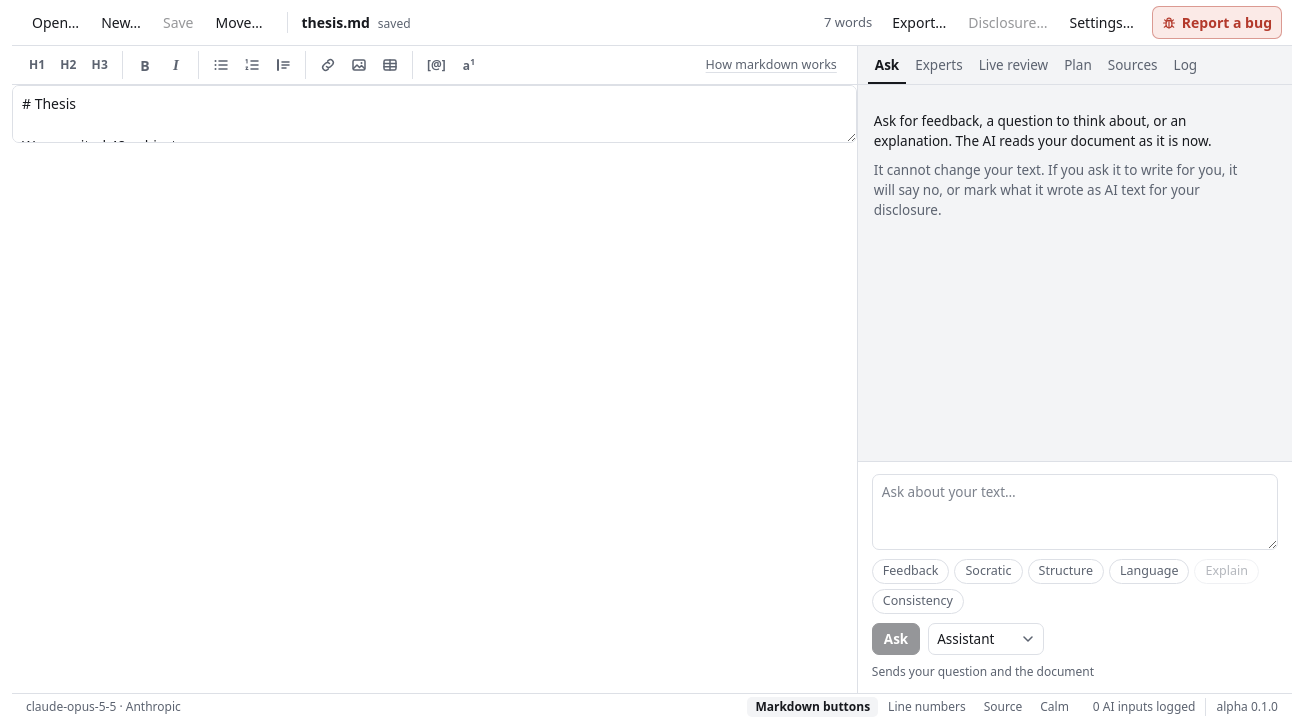
Test case: the author adds a bibliography, finds a reference and has the references checked
Expected: the text "thesis.md" is shown, [302,13,370,32]
Click the tab "Sources" at (1133, 65), box [1101,46,1165,84]
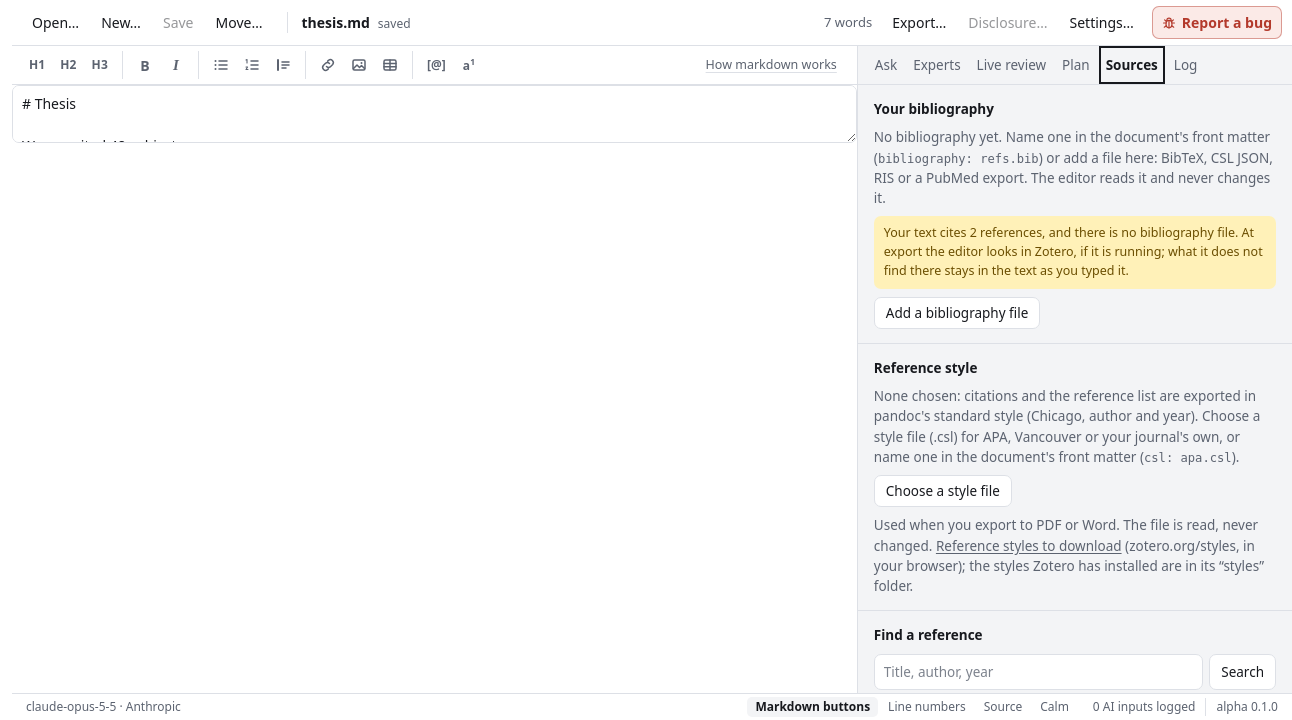
Expected: the text "No bibliography yet" is shown, [874,128,1270,167]
Expected: the text "Your text cites 2 references, and there is no bibliography file." is shown, [884,224,1263,279]
Click the button "Add a bibliography file" at (957, 313), box [874,296,1040,329]
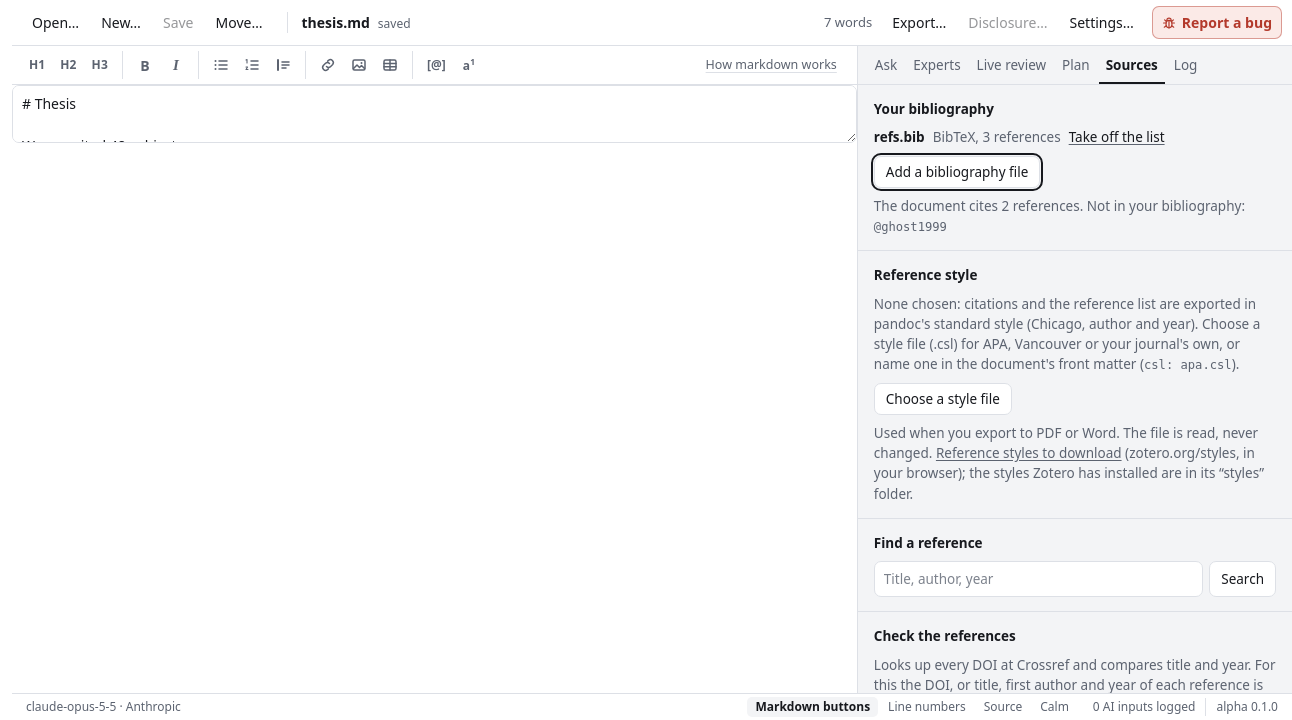
Expected: the text "BibTeX, 3 references" is shown, [933,127,1061,148]
Expected: the text "@ghost1999" is shown, [874,220,947,234]
Type "walking" into the field named "Search your references" at (1039, 579), box [874,561,1203,597]
Then press Enter
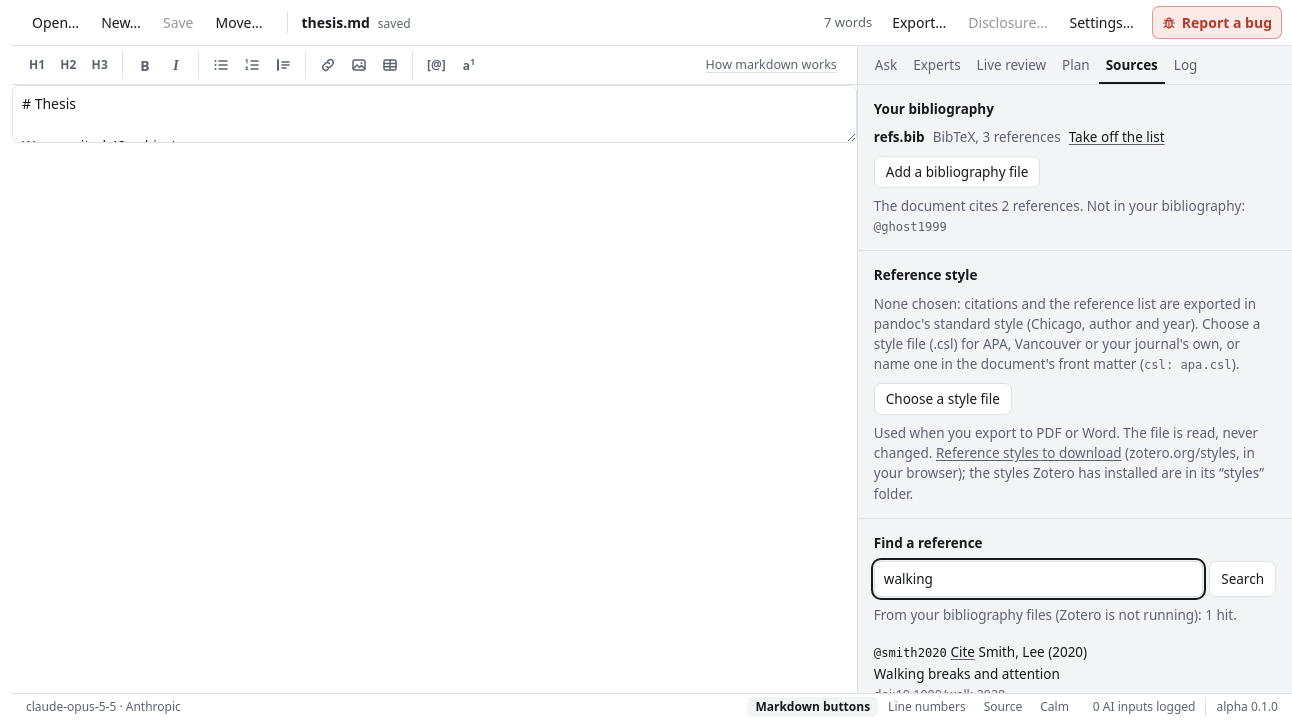
Expected: the text "From your bibliography files (Zotero is not running): 1 hit." is shown, [874,605,1276,626]
Expected: the text "@smith2020" is shown, [874,646,947,660]
// the key goes into the text where the cursor is, by the author's click
Click the button "Cite" at (963, 652), box [950,642,975,662]
(page scrolled)
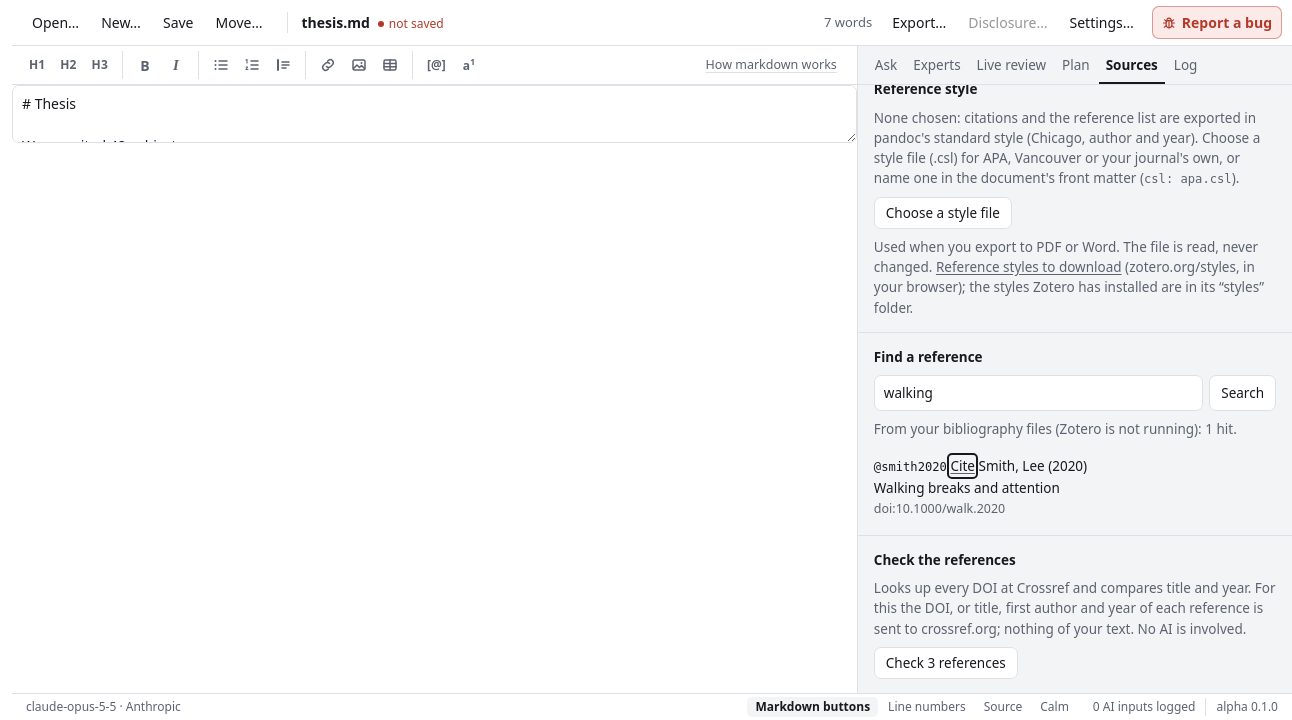
// the check: what needs a look comes first, and a suggested DOI is not called verified
Click the button "Check 3 references" at (946, 663), box [874,647,1018,679]
(page scrolled)
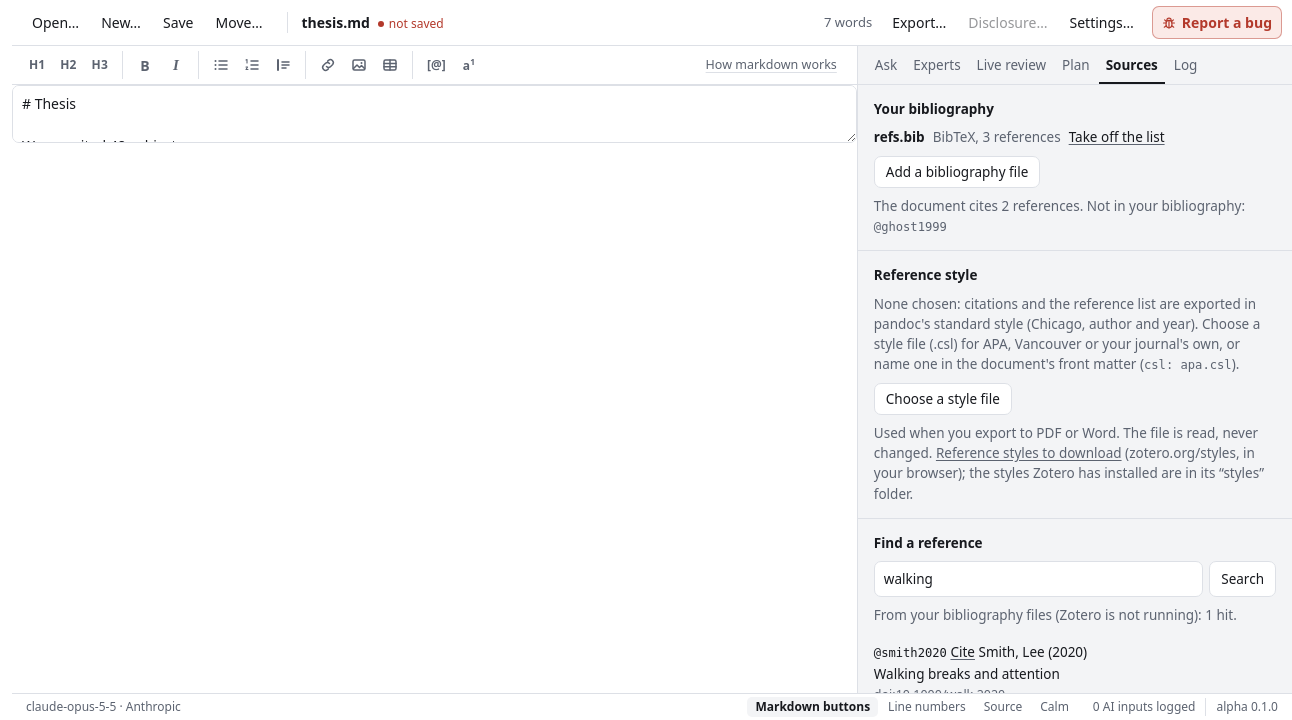
Click the button "Take off the list" at (1117, 137), box [1069,127,1165,148]
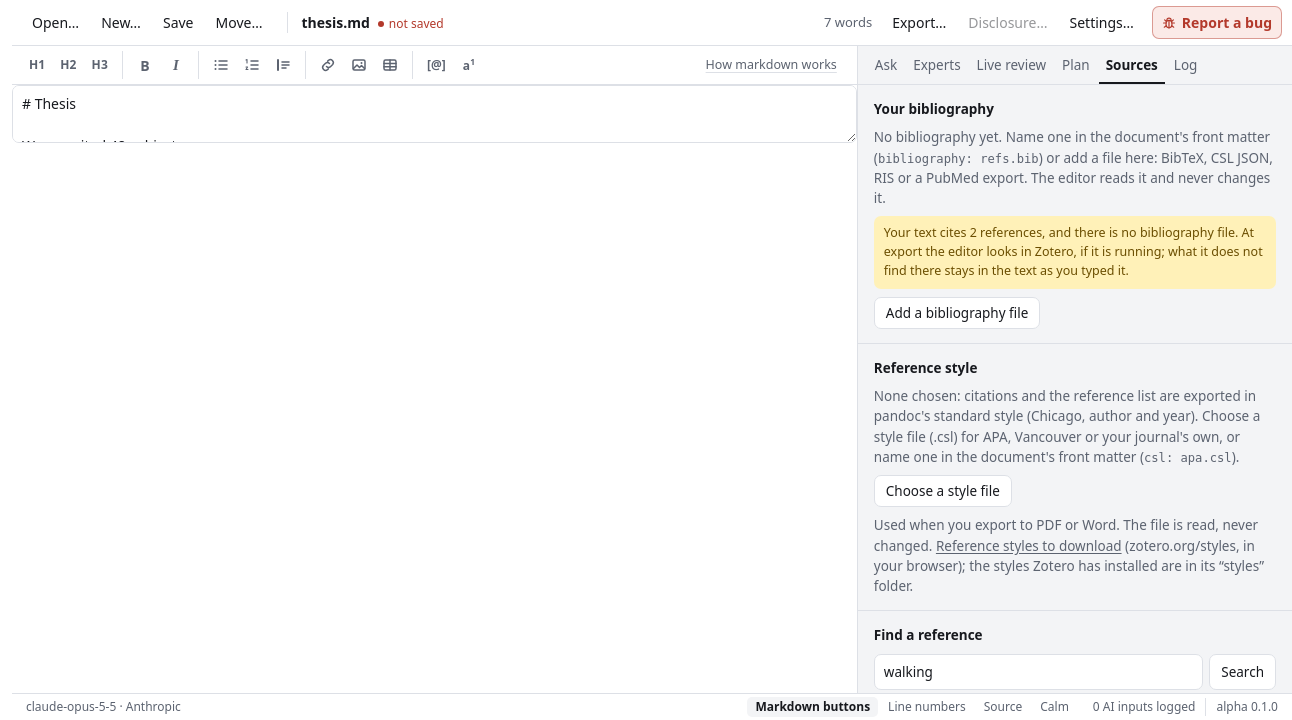
Expected: the text "No bibliography yet" is shown, [874,128,1270,167]
